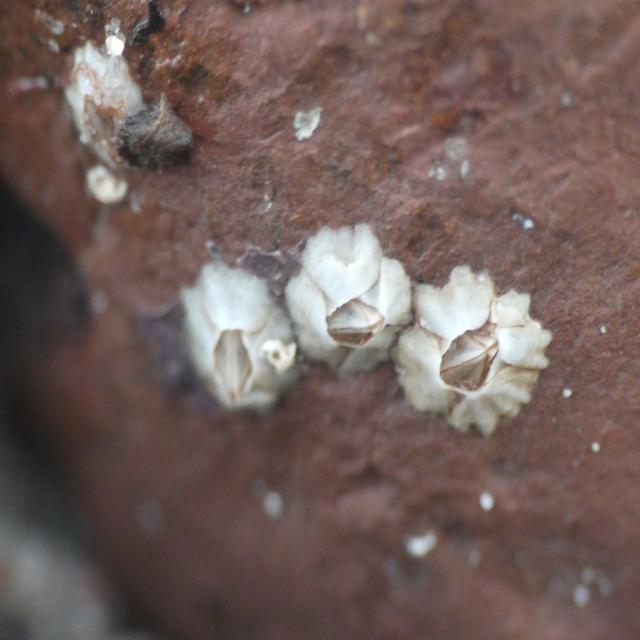barnacles: (395, 271, 554, 447), (288, 216, 412, 387), (172, 251, 286, 430)
